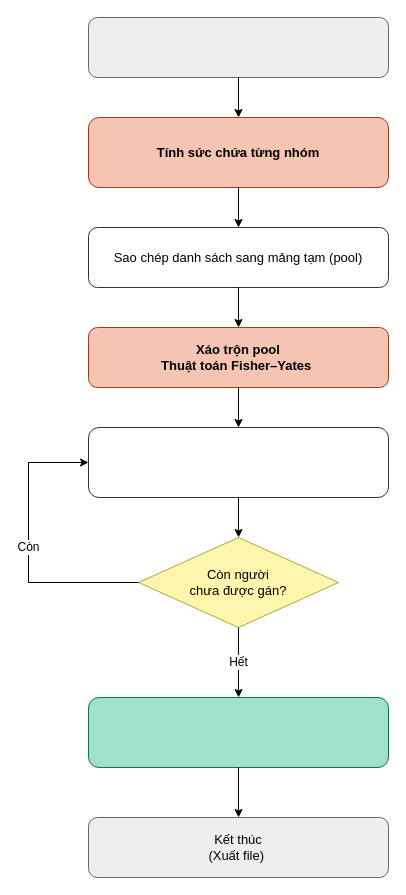
This 406x895 diagram has some shape labels left out. The shapes that lost their labels are listed below. From the top down, each one's centre as x and y in pixels, then its label:
(x=238, y=47): Nhập danh sách
(x=238, y=462): Gán tuần tự từng người trong pool đã xáo vào nhóm hiện tại theo thứ tự
(x=238, y=732): group results hoàn chỉnh
